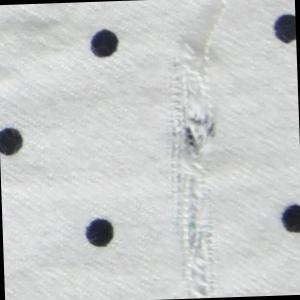Damage: (168, 35, 226, 300)
